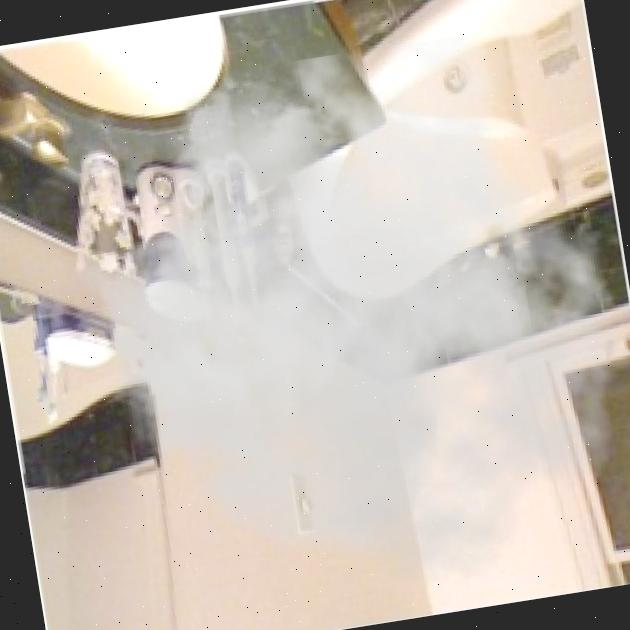smoke: (48, 15, 630, 630)
